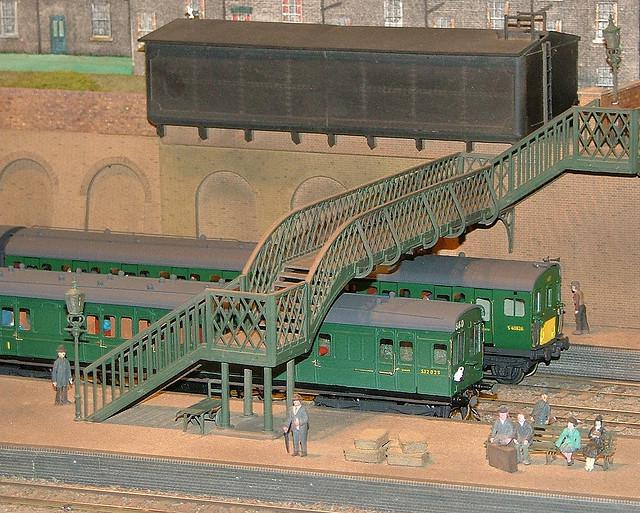Train: (2, 223, 576, 388), (0, 268, 490, 424)
